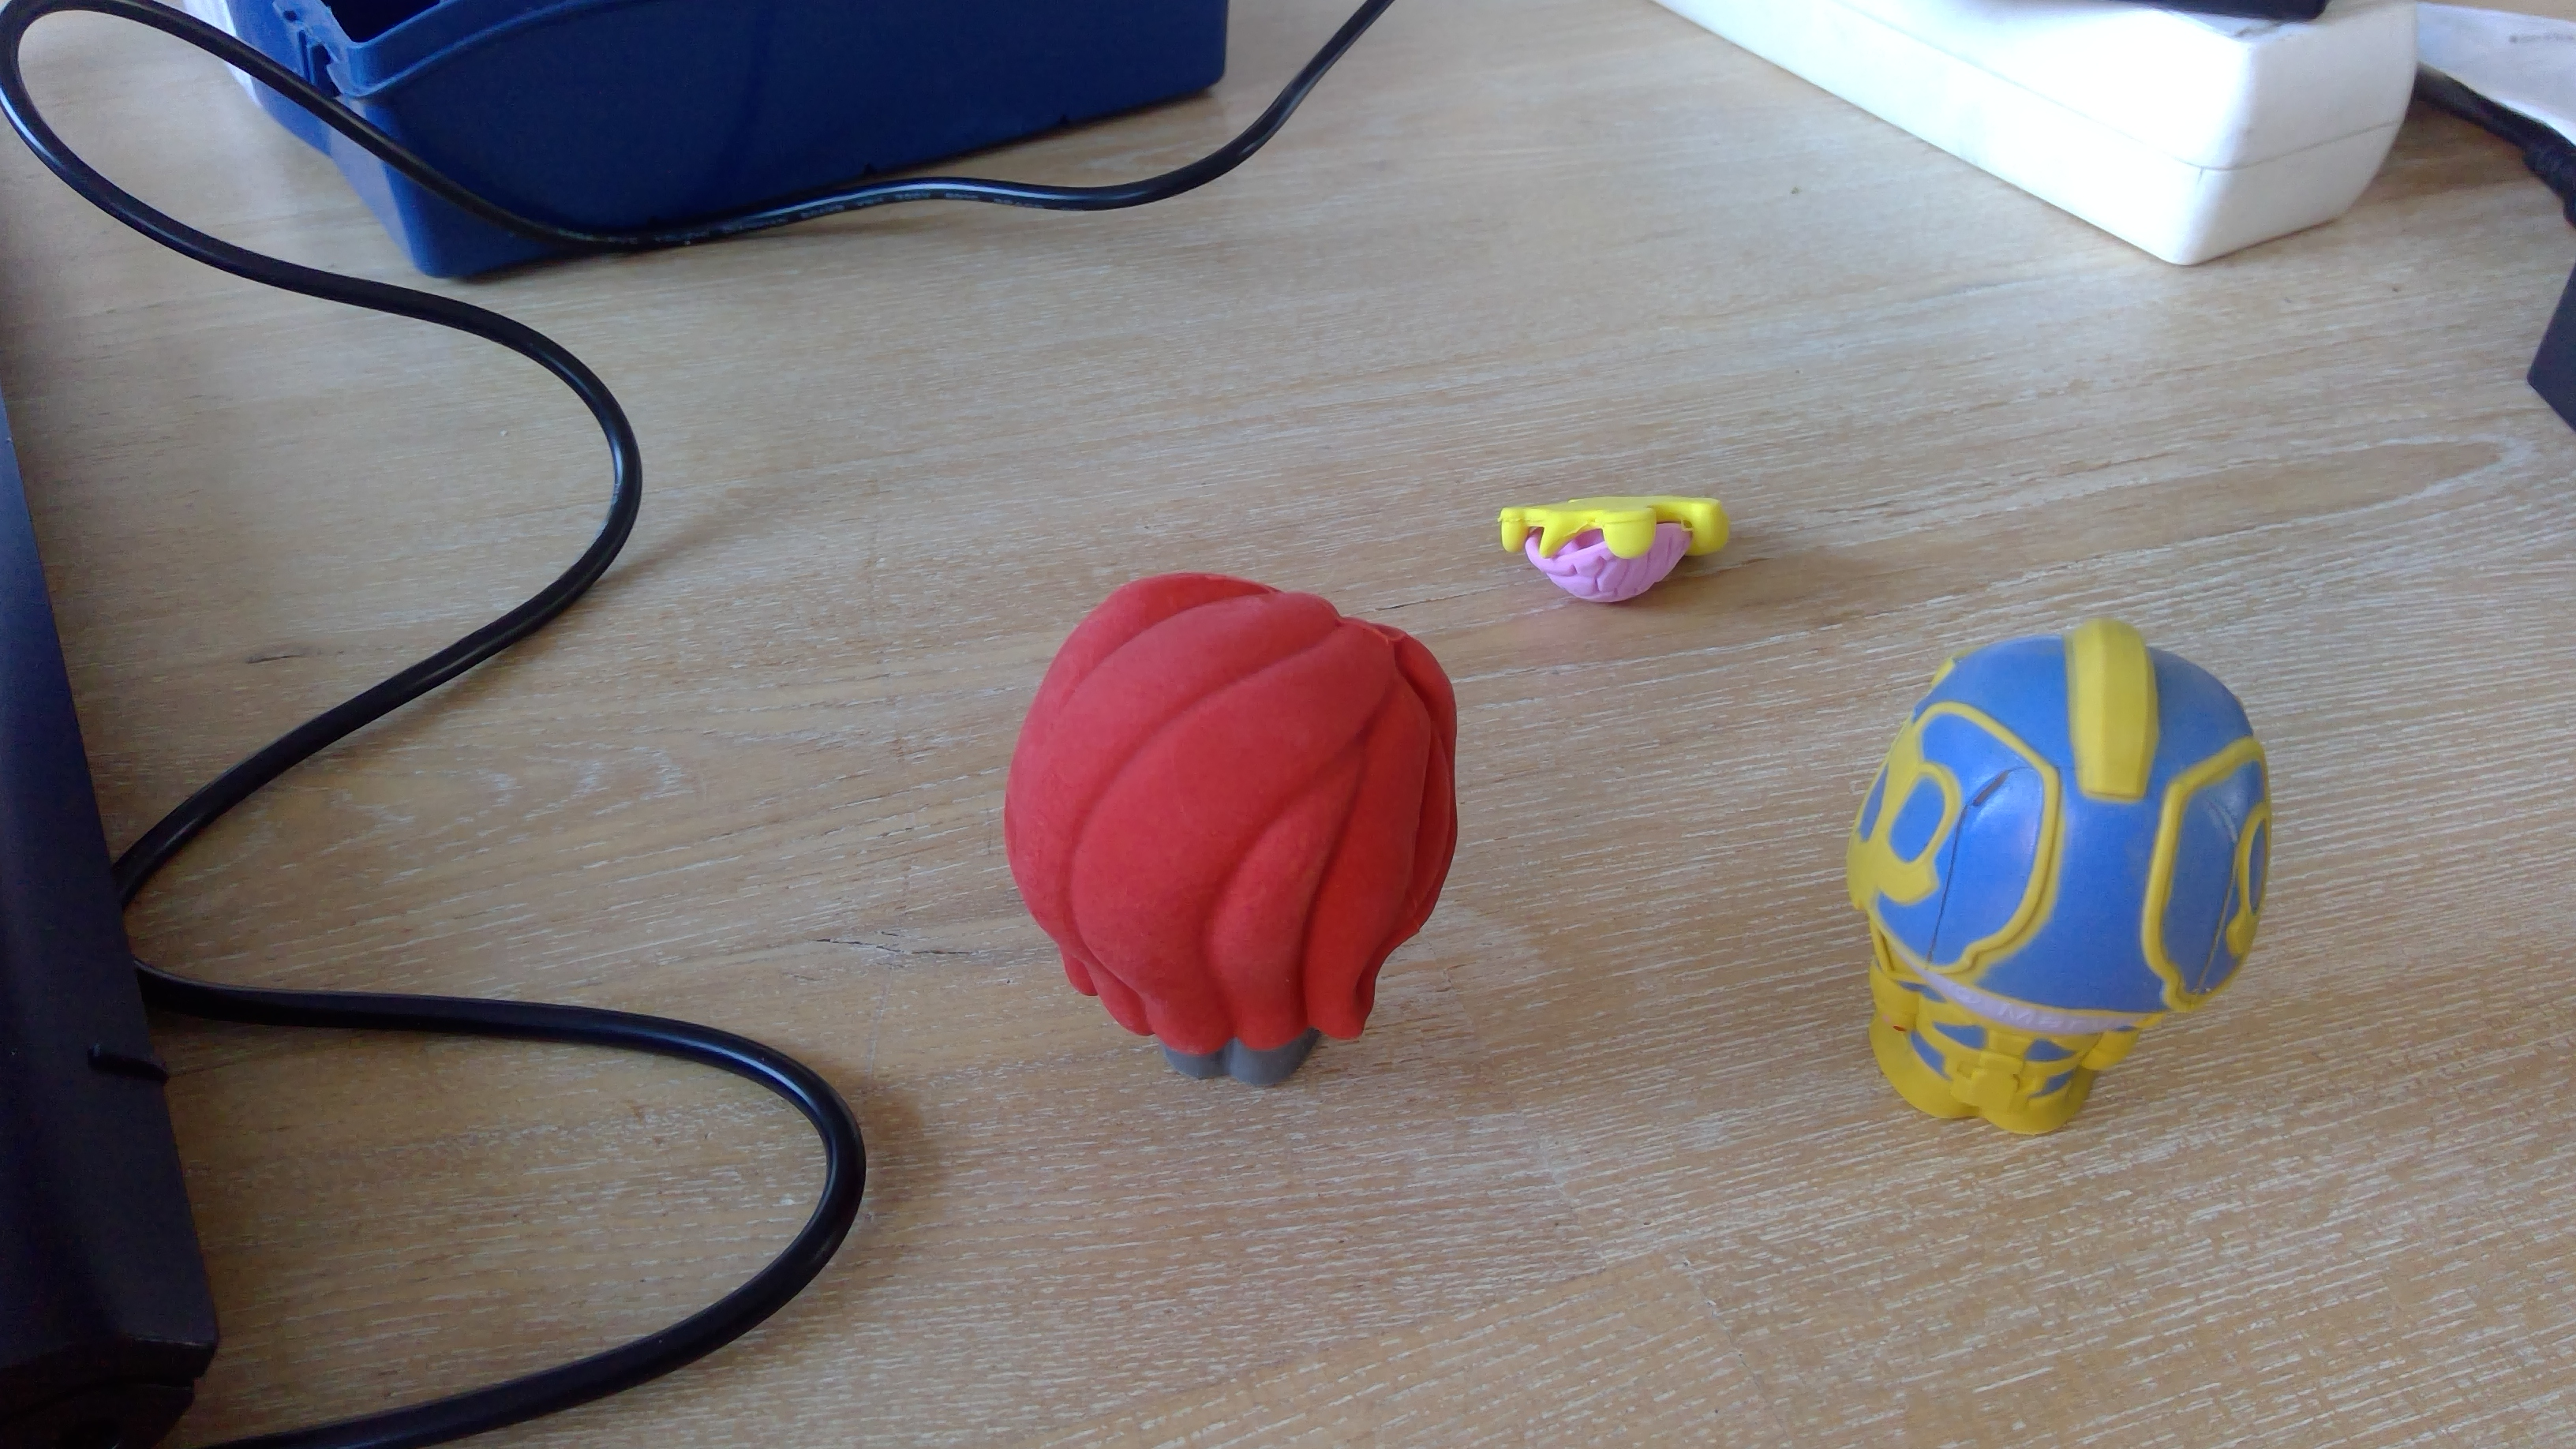schil: (1493, 481, 1729, 603)
spin: (991, 564, 1465, 1097)
thanos: (1838, 619, 2272, 1141)
